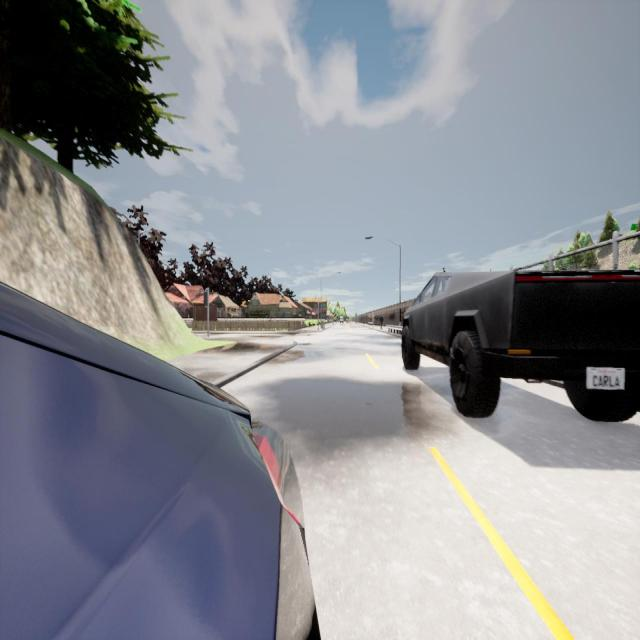Pedestrian: (379, 312, 384, 330)
Vehicle: (1, 282, 321, 640), (399, 270, 640, 418), (339, 316, 344, 324)
traffic_light: (204, 290, 207, 306)
